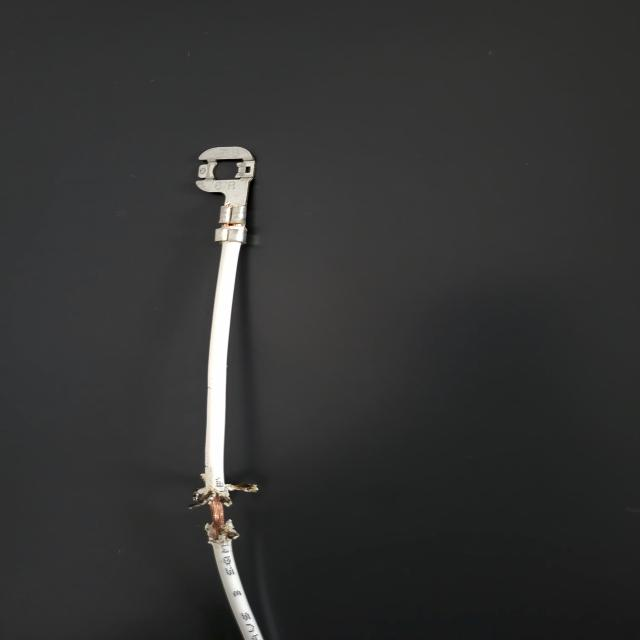defect: (143, 390, 338, 592)
